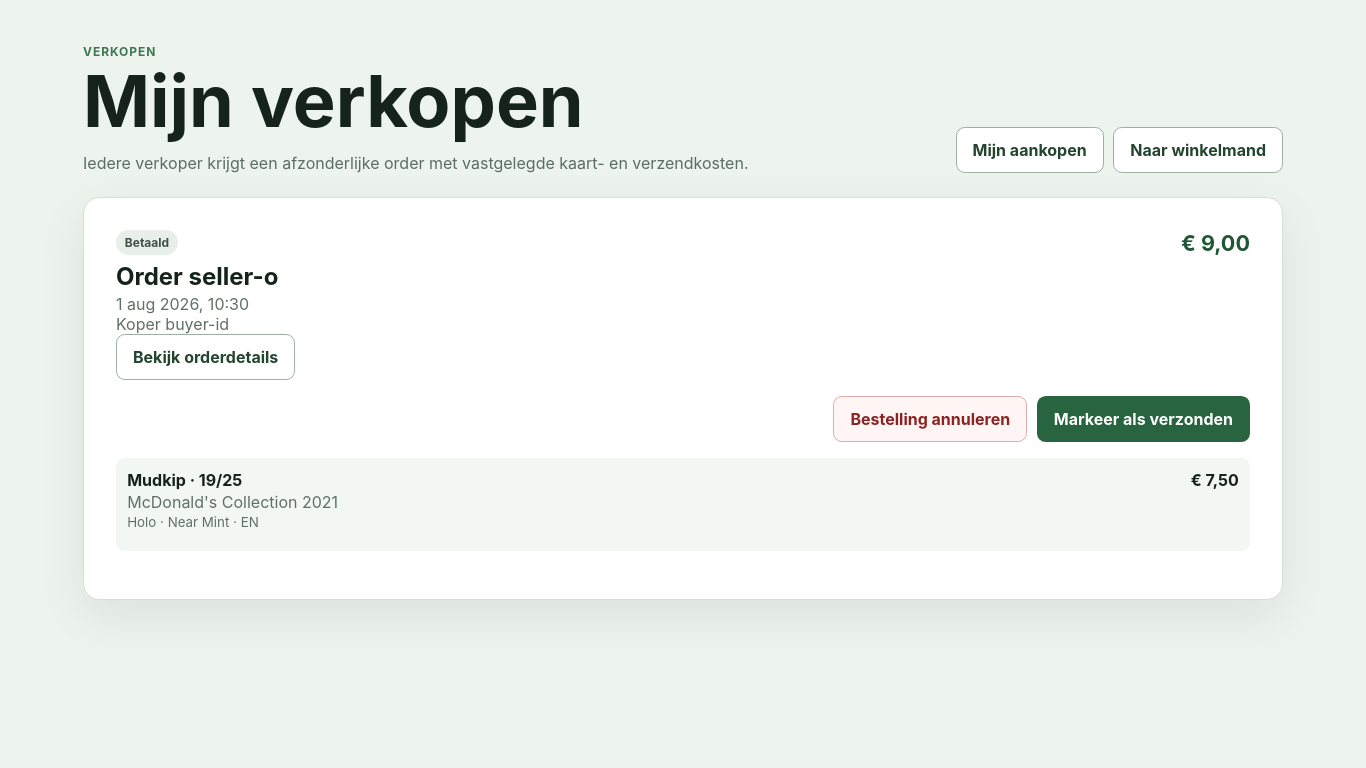
Test: OrdersPage › renders only seller orders and surfaces a shipment conflict
What coordinates should you click on to do the following:
click the button "Markeer als verzonden"
I would click on:
 (1143, 419)
Its box is [1037,396,1250,442].
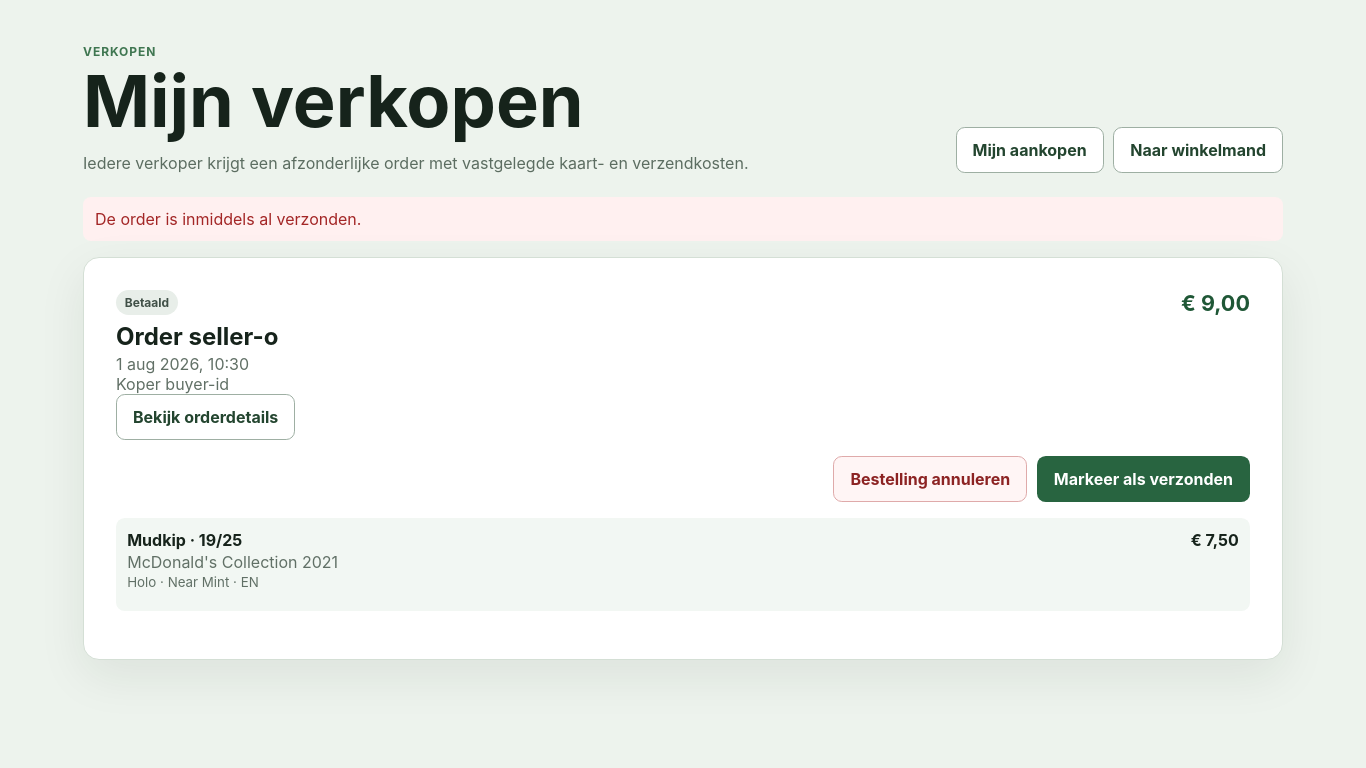
Expected: the text "Mijn verkopen" is shown, [83,57,584,144]
Result: the message "De order is inmiddels al verzonden." is shown at [83,197,1283,241]
